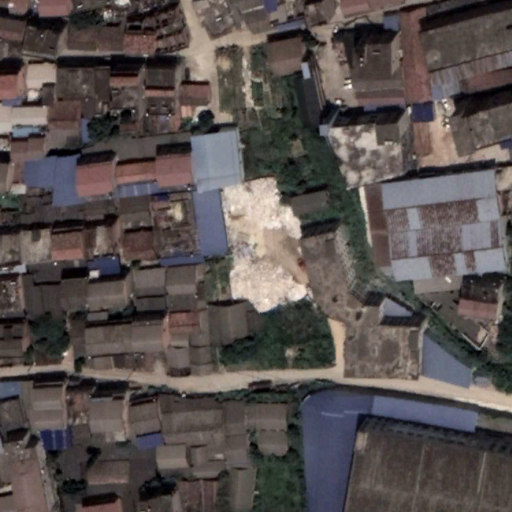msw: (222, 177, 313, 311)
